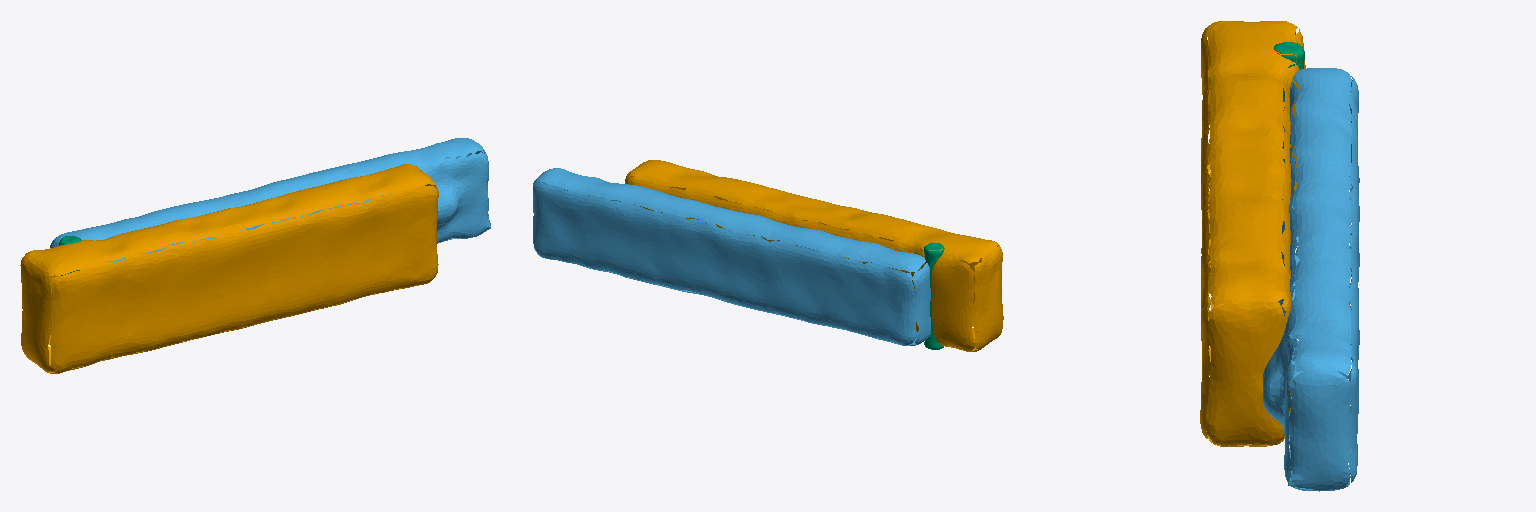
The robot description file, URDF, robot "a_stapler_5":
<?xml version='1.0' encoding='utf-8'?>
<robot name="a_stapler_5">
  <link name="base">
    <visual>
      <geometry>
        <mesh filename="obj_parts/group_output/base_refined.obj" />
      </geometry>
    </visual>
  </link>
  <link name="arm">
    <visual>
      <geometry>
        <mesh filename="obj_parts/group_output/arm_refined.obj" />
      </geometry>
      <origin xyz="4.5 -1.5 0.0" rpy="0.0 0.0 0.0" />
    </visual>
  </link>
  <link name="hingePin">
    <visual>
      <geometry>
        <mesh filename="obj_parts/group_output/hingePin_refined.obj" />
      </geometry>
    </visual>
  </link>
  <joint name="base_to_hingePin" type="fixed">
    <parent link="base" />
    <child link="hingePin" />
    
    
  </joint>
  <joint name="stapler_hinge" type="revolute">
    <parent link="base" />
    <child link="arm" />
    <origin xyz="-4.5 1.5 0.0" rpy="0 0 0" />
    <axis xyz="0 0 1" />
    <limit lower="0.0" upper="1.3" effort="20.0" velocity="2.0" />
  </joint>
</robot>

--- Render facts (derived) ---
The picture shows the robot from 3 angles, left to right: view 1: azimuth 30°, elevation 25°; view 2: azimuth 150°, elevation 25°; view 3: azimuth 270°, elevation 25°; orthographic projection.
Robot: a_stapler_5 — 3 links, 2 joints (1 revolute, 1 fixed); root link base; default pose: every joint at zero.
Visible links, largest first — view 1: base, arm; view 2: arm, base, hingePin; view 3: base, arm, hingePin.
Boxes of the visible links, bbox=[...] form: base: bbox=[20, 164, 438, 373]; arm: bbox=[50, 138, 490, 262]; arm: bbox=[533, 168, 930, 345]; base: bbox=[625, 160, 1003, 351]; hingePin: bbox=[924, 243, 944, 349]; base: bbox=[1200, 21, 1305, 446]; arm: bbox=[1263, 68, 1359, 491]; hingePin: bbox=[1274, 42, 1304, 101].
Size in the robot's own frame: 14.69 by 2.88 by 3.29 metres.
3 mesh visuals loaded from 3 distinct referenced files (3 OBJ).
